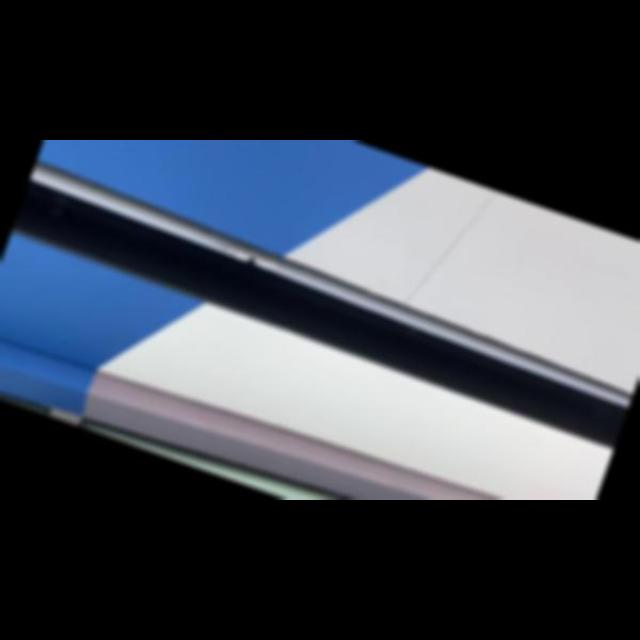Straight-Tube-Fluorescent-Lamp: (20, 140, 640, 434)
